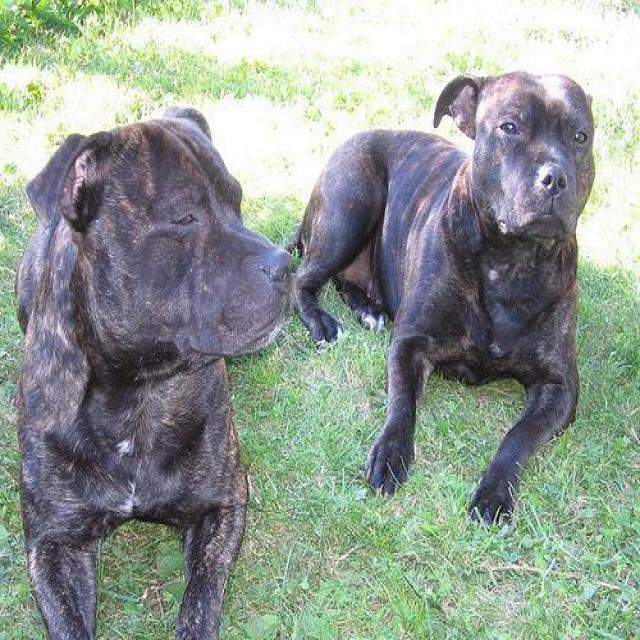staffordshire_bullterrier: (287, 8, 609, 548), (16, 106, 294, 638)
